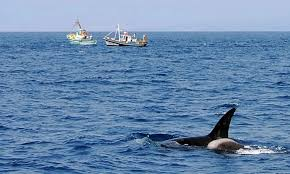tau_dansu: (105, 21, 152, 51), (61, 22, 100, 58)
